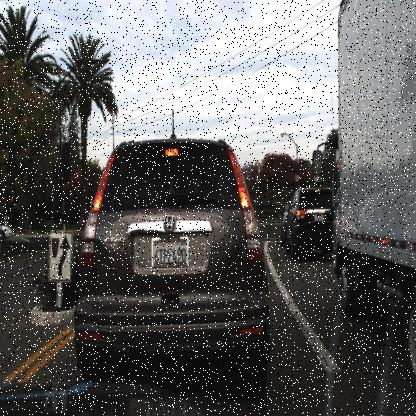car: (76, 134, 269, 390), (284, 186, 344, 258), (0, 220, 14, 242)
truck: (329, 0, 415, 381)
